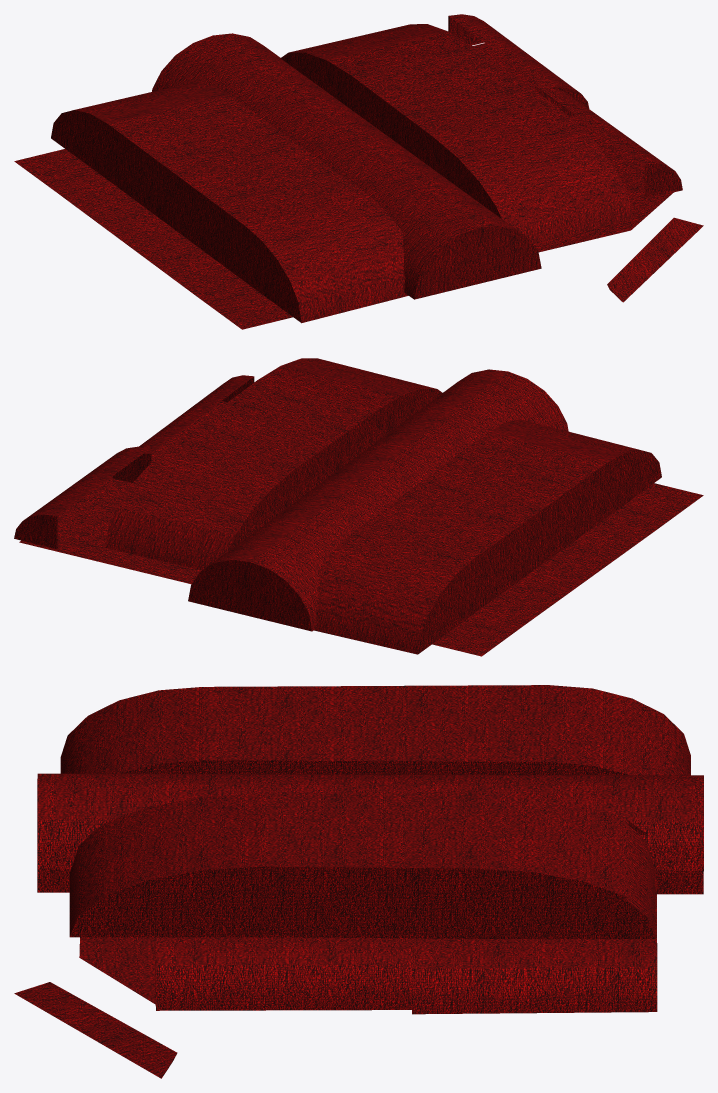
Rendered from techo.obj.
3 views of the same model, one above another, from view 1: azimuth 30°, elevation 25°; view 2: azimuth 150°, elevation 25°; view 3: azimuth 270°, elevation 25° (orthographic). The views are drawn at different scales.
Visible parts, largest first — view 1: pasted__group18_pasted__pasted__group17_pasted__pasted__pasted__; view 2: pasted__group18_pasted__pasted__group17_pasted__pasted__pasted__; view 3: pasted__group18_pasted__pasted__group17_pasted__pasted__pasted__.
Part boxes in pixels (x1,y1,x2,y2): pasted__group18_pasted__pasted__group17_pasted__pasted__pasted__: [14, 14, 703, 329]; pasted__group18_pasted__pasted__group17_pasted__pasted__pasted__: [14, 358, 703, 656]; pasted__group18_pasted__pasted__group17_pasted__pasted__pasted__: [14, 685, 703, 1078].
Bounding box in the file's own units: 95.99 × 21.64 × 92.39.
1 material, 1 textured.
